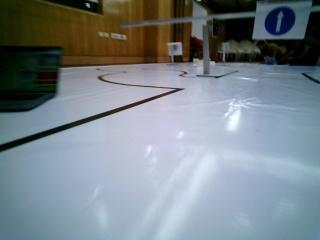straight: (257, 4, 309, 42)
